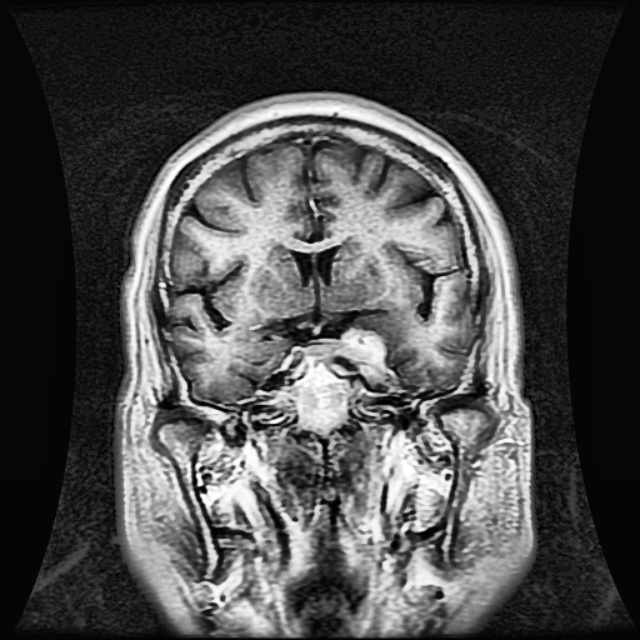Glioma: (335, 325, 385, 375)
